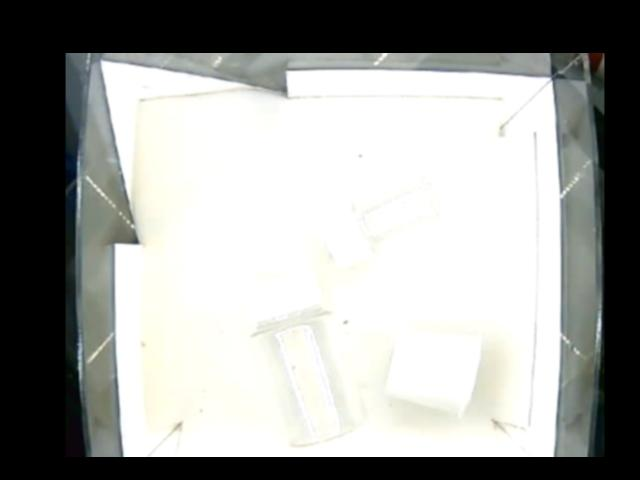Bottle: (245, 271, 369, 447), (319, 175, 439, 267)
Cup: (382, 330, 484, 419)
